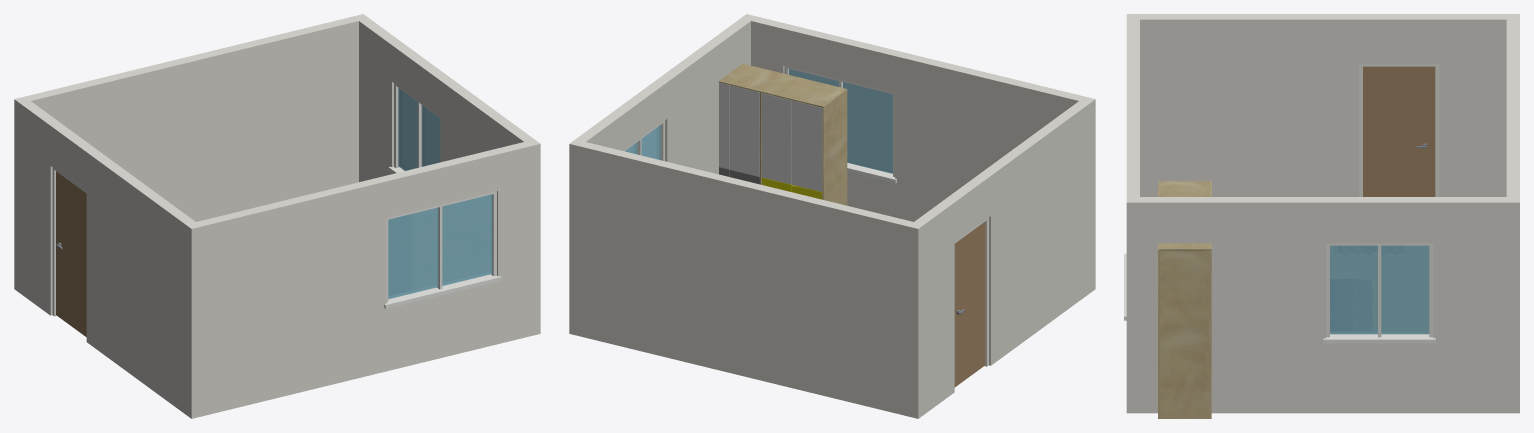
File: layoutgpt.glb
3 renders of one model, left to right at view 1: azimuth 30°, elevation 25°; view 2: azimuth 150°, elevation 25°; view 3: azimuth 270°, elevation 25°, orthographic. The views are drawn at different scales.
Parts seen in each view (by area): view 1: wall|scenesmith_064__R00|0, wall|scenesmith_064__R00|1, wall|scenesmith_064__R00|2, wall|scenesmith_064__R00|3, wall|scenesmith_064__R00|0 Window 0 | glazing, wall|scenesmith_064__R00|2 Door 0 | wood leaf, wall|scenesmith_064__R00|3 Window 0 | glazing, wall|scenesmith_064__R00|0 Window 0 | jamb, wall|scenesmith_064__R00|3 Window 0 | jamb, wall|scenesmith_064__R00|2 Door 0 | jamb; view 2: wall|scenesmith_064__R00|1, wall|scenesmith_064__R00|2, wall|scenesmith_064__R00|0, raw_model.003, wall|scenesmith_064__R00|3, wall|scenesmith_064__R00|2 Door 0 | wood leaf, wall|scenesmith_064__R00|0 Window 0 | glazing, wall|scenesmith_064__R00|0 Window 0 | jamb, wall|scenesmith_064__R00|2 Door 0 | jamb, wall|scenesmith_064__R00|3 Window 0 | glazing; view 3: wall|scenesmith_064__R00|3, wall|scenesmith_064__R00|2, raw_model.003, wall|scenesmith_064__R00|2 Door 0 | wood leaf, wall|scenesmith_064__R00|3 Window 0 | glazing, wall|scenesmith_064__R00|1, wall|scenesmith_064__R00|3 Window 0 | jamb, wall|scenesmith_064__R00|0, wall|scenesmith_064__R00|2 Door 0 | jamb.
Part boxes in pixels (x1,y1,x2,y2): wall|scenesmith_064__R00|0: (196,139,540,416); wall|scenesmith_064__R00|1: (14,14,368,292); wall|scenesmith_064__R00|2: (14,96,201,418); wall|scenesmith_064__R00|3: (357,18,537,181); wall|scenesmith_064__R00|0 Window 0 | glazing: (388,194,492,299); wall|scenesmith_064__R00|2 Door 0 | wood leaf: (56,171,86,336); wall|scenesmith_064__R00|3 Window 0 | glazing: (398,88,440,170); wall|scenesmith_064__R00|0 Window 0 | jamb: (384,191,501,308); wall|scenesmith_064__R00|3 Window 0 | jamb: (388,83,440,173); wall|scenesmith_064__R00|2 Door 0 | jamb: (52,168,86,316); wall|scenesmith_064__R00|1: (569,139,924,418); wall|scenesmith_064__R00|2: (908,96,1095,418); wall|scenesmith_064__R00|0: (741,14,1084,221); raw_model.003: (718,63,847,205); wall|scenesmith_064__R00|3: (571,14,756,174); wall|scenesmith_064__R00|2 Door 0 | wood leaf: (954,221,985,387); wall|scenesmith_064__R00|0 Window 0 | glazing: (789,69,892,173); wall|scenesmith_064__R00|0 Window 0 | jamb: (784,65,896,183); wall|scenesmith_064__R00|2 Door 0 | jamb: (954,218,988,366); wall|scenesmith_064__R00|3 Window 0 | glazing: (625,125,660,159); wall|scenesmith_064__R00|3: (1126,197,1506,413); wall|scenesmith_064__R00|2: (1126,14,1519,196); raw_model.003: (1158,181,1211,418); wall|scenesmith_064__R00|2 Door 0 | wood leaf: (1363,66,1435,196); wall|scenesmith_064__R00|3 Window 0 | glazing: (1330,245,1429,334); wall|scenesmith_064__R00|1: (1506,19,1519,413); wall|scenesmith_064__R00|3 Window 0 | jamb: (1323,243,1435,343); wall|scenesmith_064__R00|0: (1126,19,1139,201); wall|scenesmith_064__R00|2 Door 0 | jamb: (1359,64,1439,196).
Size of the model in its own units: 5.15 by 2.61 by 4.43.
10 materials, 4 textured.
